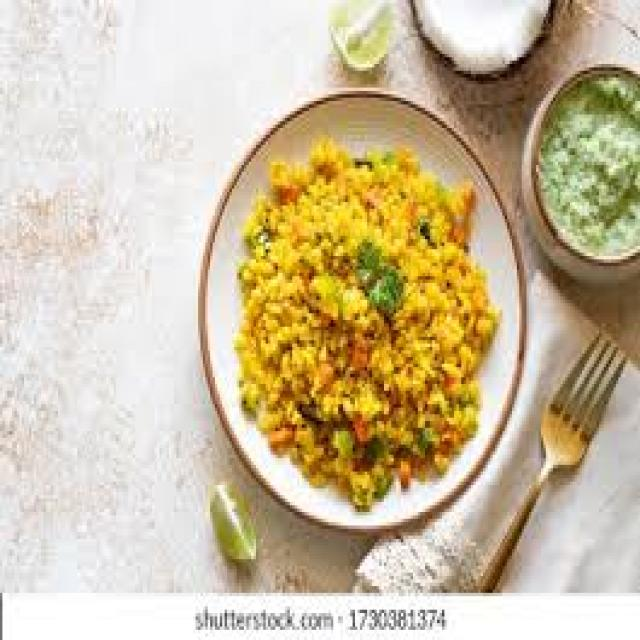POHA: (230, 149, 501, 492)
